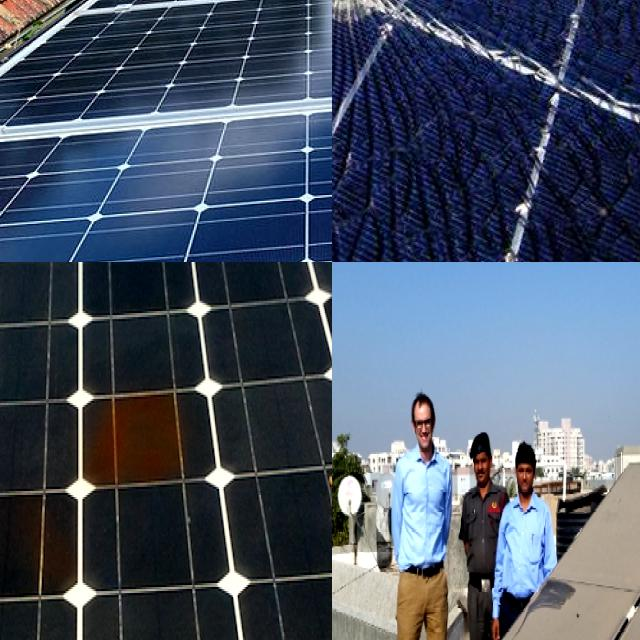crack: (46, 136, 309, 262), (167, 17, 332, 140), (191, 163, 332, 262), (261, 0, 332, 41)
dust: (531, 588, 609, 640), (611, 468, 640, 590)
hotspot: (332, 0, 464, 104)
shadow: (74, 388, 208, 492), (20, 471, 70, 614), (0, 475, 38, 617), (309, 436, 332, 530)
